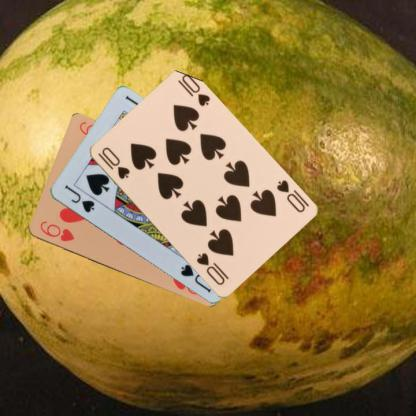10s: (95, 144, 131, 180), (274, 177, 306, 214)
6h: (37, 219, 76, 244)
Js: (61, 181, 96, 214)
